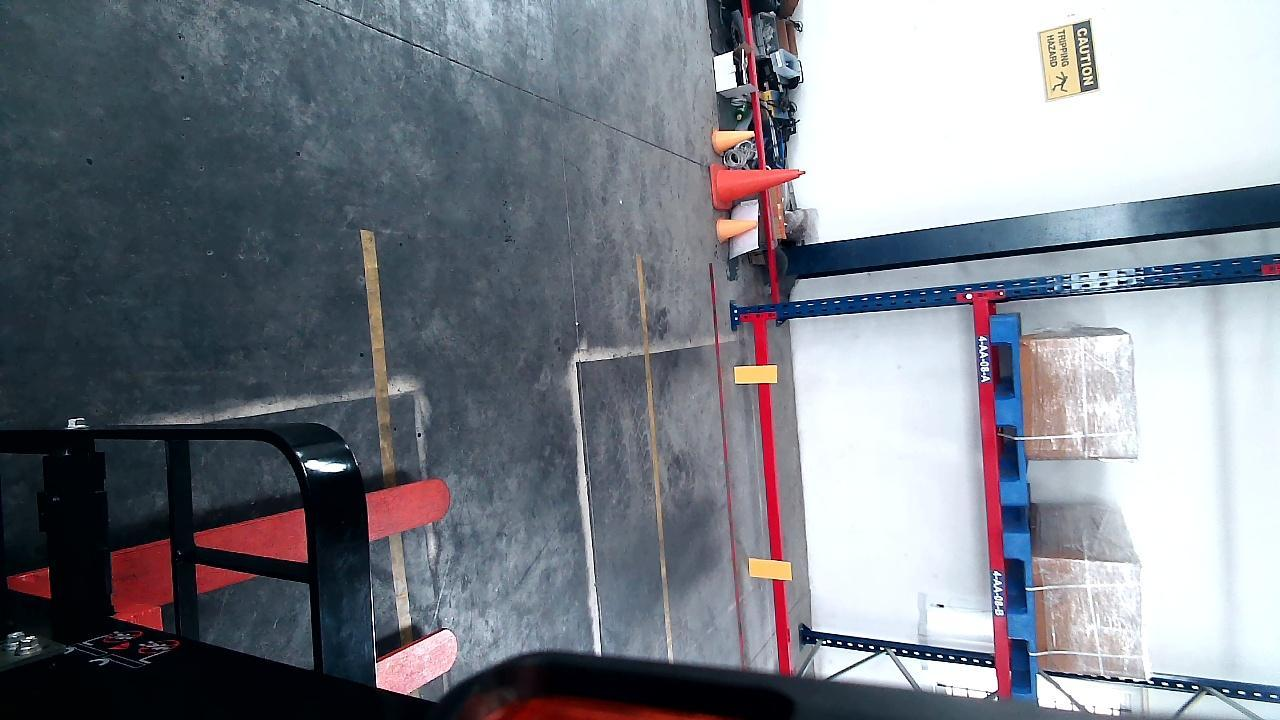red_line: (707, 260, 747, 669)
yellow_line: (363, 226, 408, 635), (634, 260, 678, 660)
